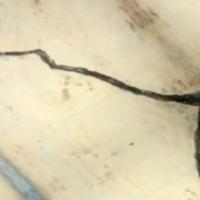crack: (0, 37, 199, 119)
